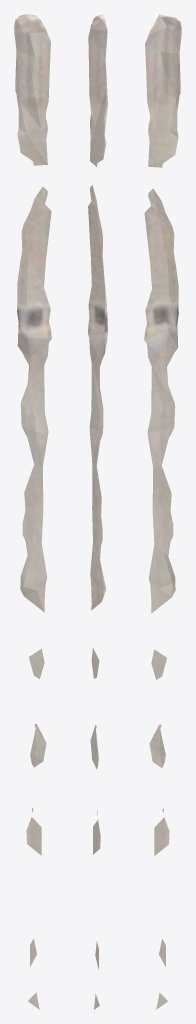
Rendered from Tile__001__006_L21_0001000.glb.
3 views of the same model, side by side, from view 1: azimuth 90°, elevation 25°; view 2: azimuth 210°, elevation 25°; view 3: azimuth 270°, elevation 25° (orthographic).
Parts seen in each view (by area): view 1: root; view 2: root; view 3: root.
Part boxes in pixels (left/top/right/bottom): root: left=14, top=14, right=51, bottom=1009; root: left=88, top=14, right=107, bottom=1009; root: left=144, top=14, right=181, bottom=1009.
Bounding box in the file's own units: 0.2443 × 26.44 × 0.9113.
1 material, 1 textured.
